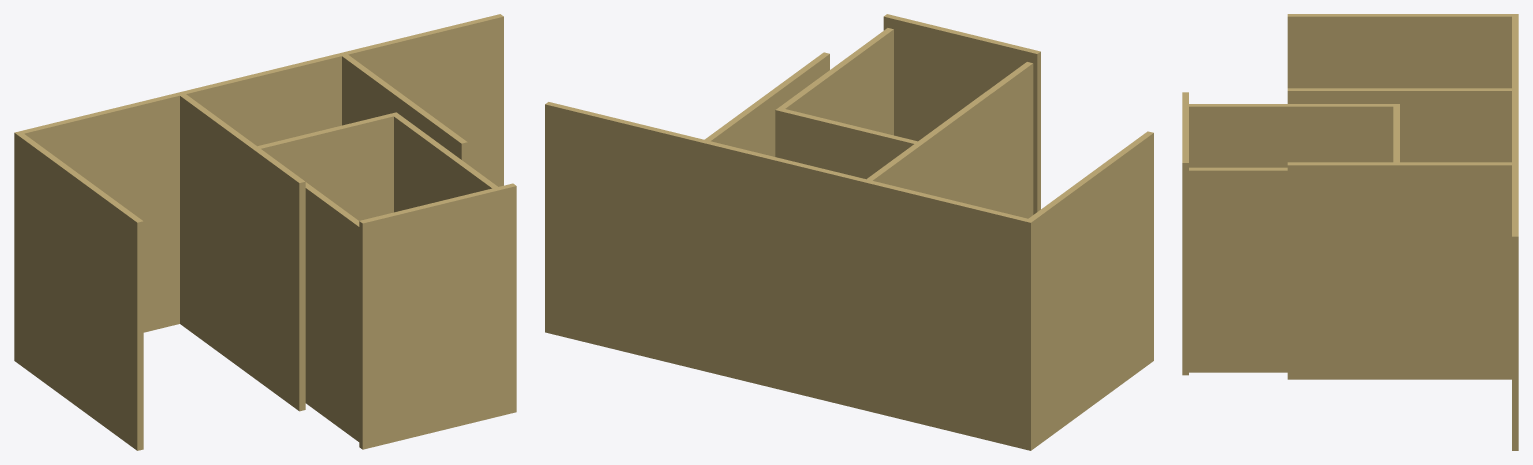
The model's file is meuble_69130febc0239.glb.
3 renders of one model, left to right at view 1: azimuth 30°, elevation 25°; view 2: azimuth 150°, elevation 25°; view 3: azimuth 270°, elevation 25°, orthographic. The views are drawn at different scales.
Visible parts, largest first — view 1: world; view 2: world; view 3: world.
Part boxes in pixels (x1,y1,x2,y2): world: (14,14,516,450); world: (545,14,1153,450); world: (1182,14,1518,450).
Bounding box in the file's own units: 1.5 × 0.673 × 0.958.
